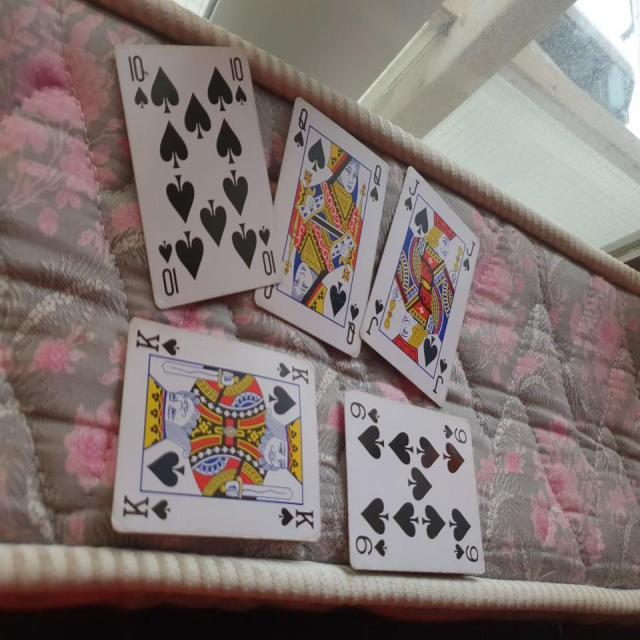10 of spades: (106, 32, 282, 316)
9 of spades: (342, 378, 495, 581)
jack of spades: (364, 154, 480, 412)
king of spades: (104, 313, 325, 560)
queen of spades: (253, 87, 388, 360)
